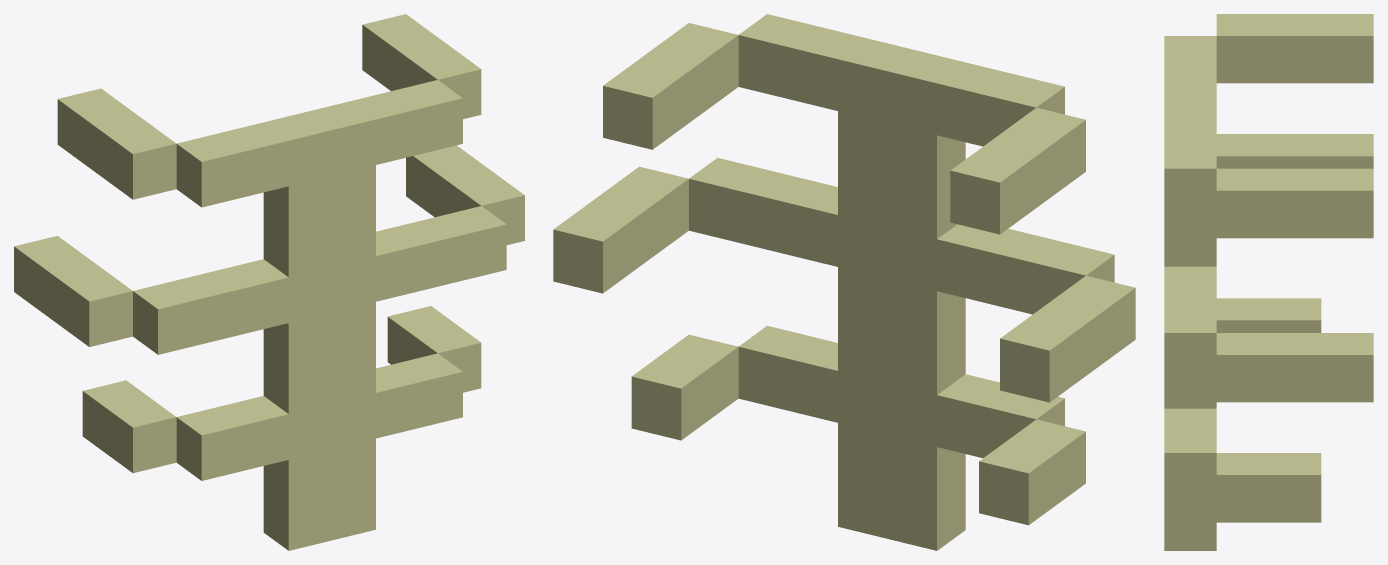
The model's file is caveira-2.obj.
3 renders of one model, left to right at view 1: azimuth 30°, elevation 25°; view 2: azimuth 150°, elevation 25°; view 3: azimuth 270°, elevation 25°, orthographic. The views are drawn at different scales.
Bounding box in the file's own units: 1 × 0.9 × 0.4.
1 material, 1 textured.
